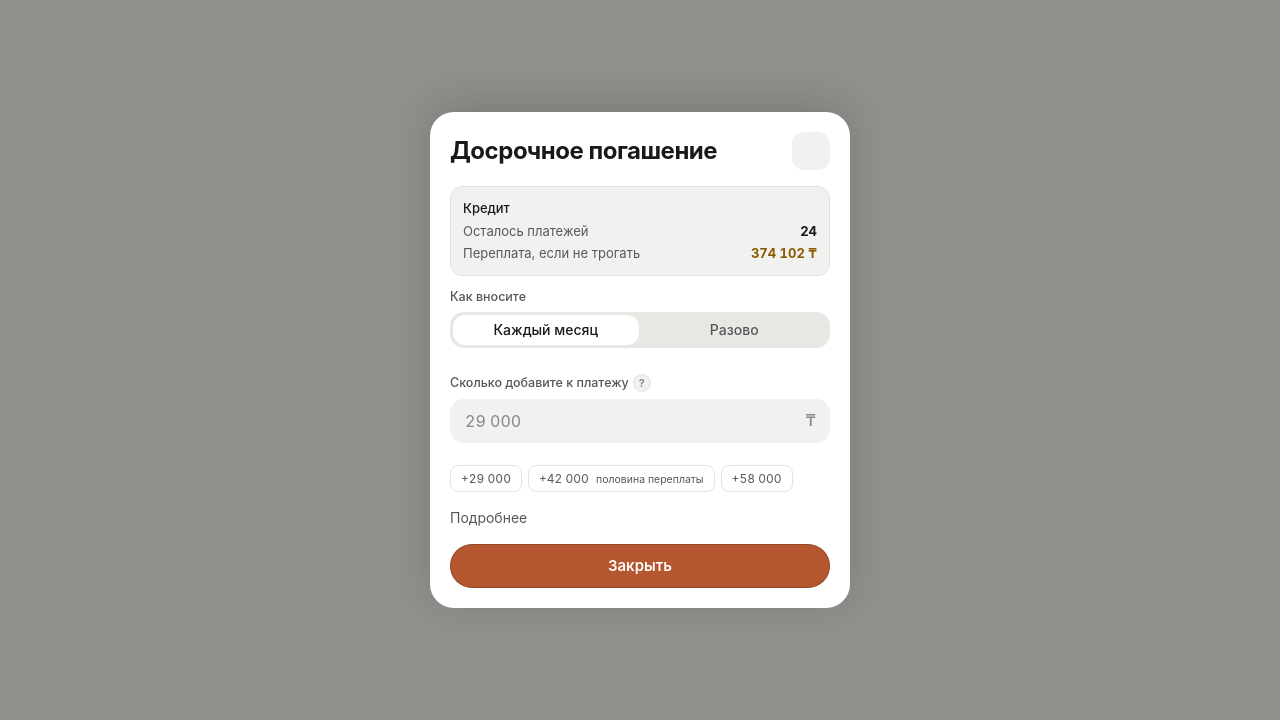
Test: FG-25: калькулятор досрочки › лесенка «Отдача падает» — под «Подробнее», закрыта по умолчанию; после нажатия — видна
What coordinates should you click on to do the following:
click the heading "Подробнее"
I would click on:
 (489, 517)
Its box is [450,509,527,526].
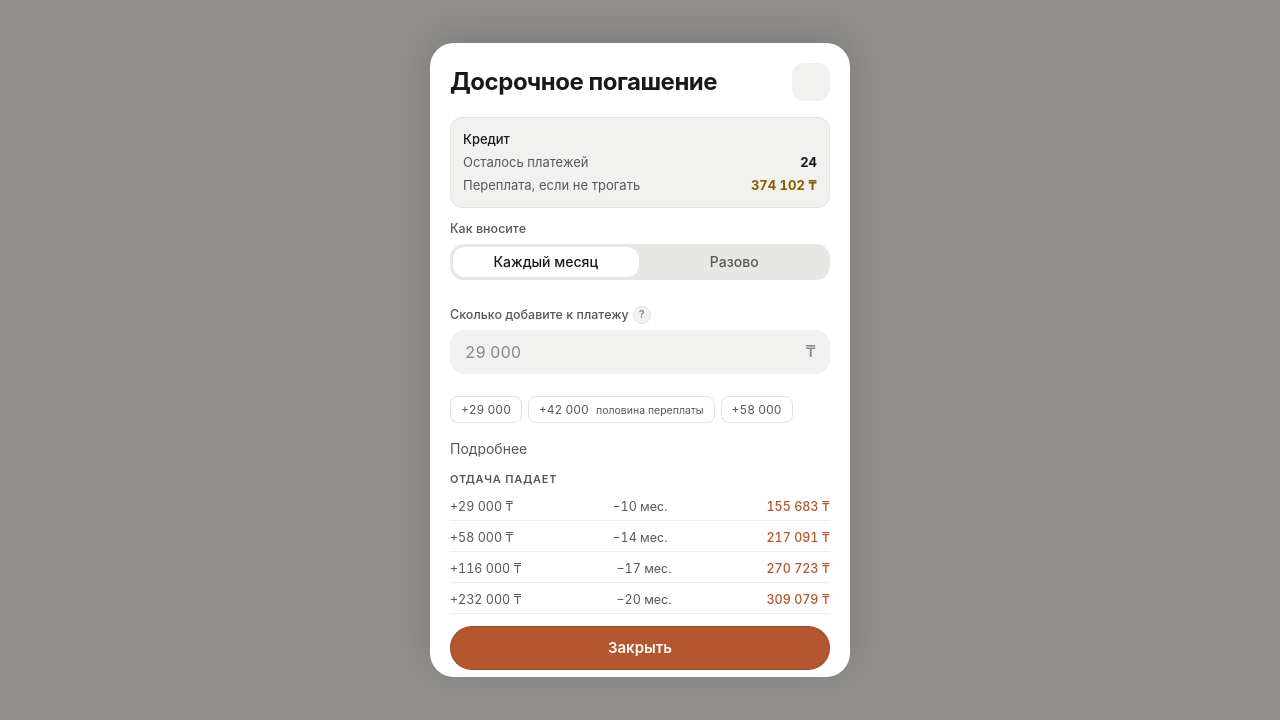
Result: the element that starts with "Подробнее" shows "Отдача падает" at [450,472,557,486]
Result: the text "+29 000 ₸" is shown at [450,498,513,516]
Result: the element that starts with "Подробнее" shows "₸" at [450,499,513,514]
